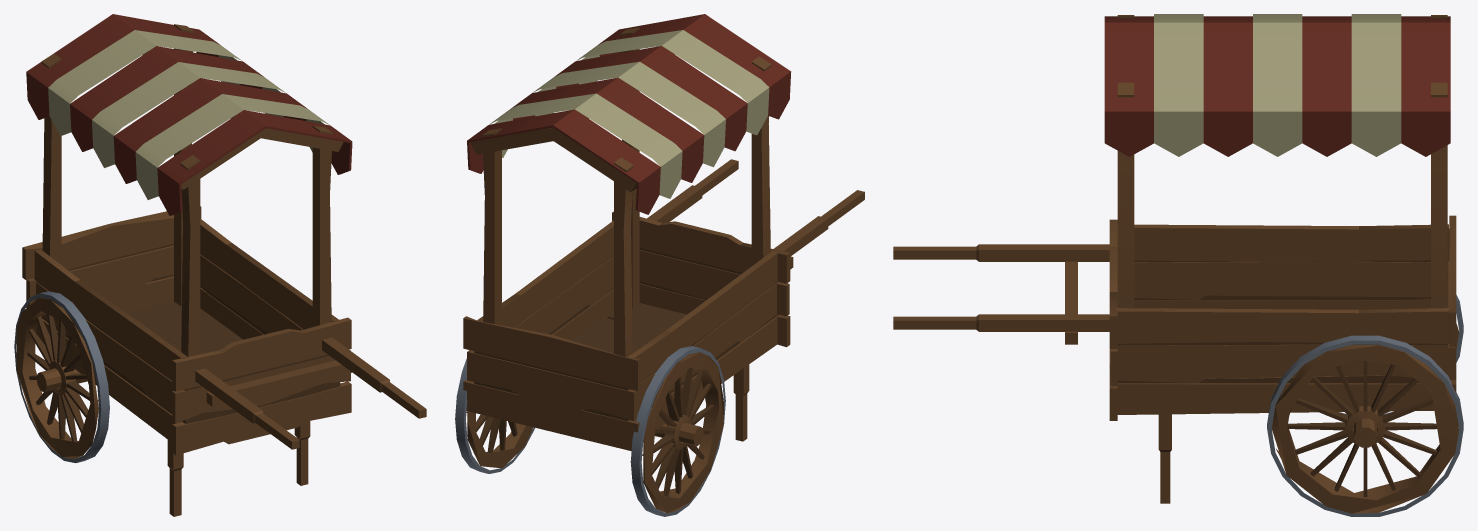
File: v_cart.glb
The picture shows the model from 3 angles, left to right: view 1: azimuth 30°, elevation 25°; view 2: azimuth 150°, elevation 25°; view 3: azimuth 270°, elevation 25°; orthographic projection. The views are drawn at different scales.
Visible parts, largest first — view 1: Cart; view 2: Cart; view 3: Cart.
Boxes of the visible parts, left/top/right/bottom form: Cart: left=14, top=14, right=426, bottom=516; Cart: left=455, top=14, right=864, bottom=516; Cart: left=893, top=14, right=1463, bottom=516.
Bounding box in the file's own units: 0.462 × 0.7961 × 0.9274.
